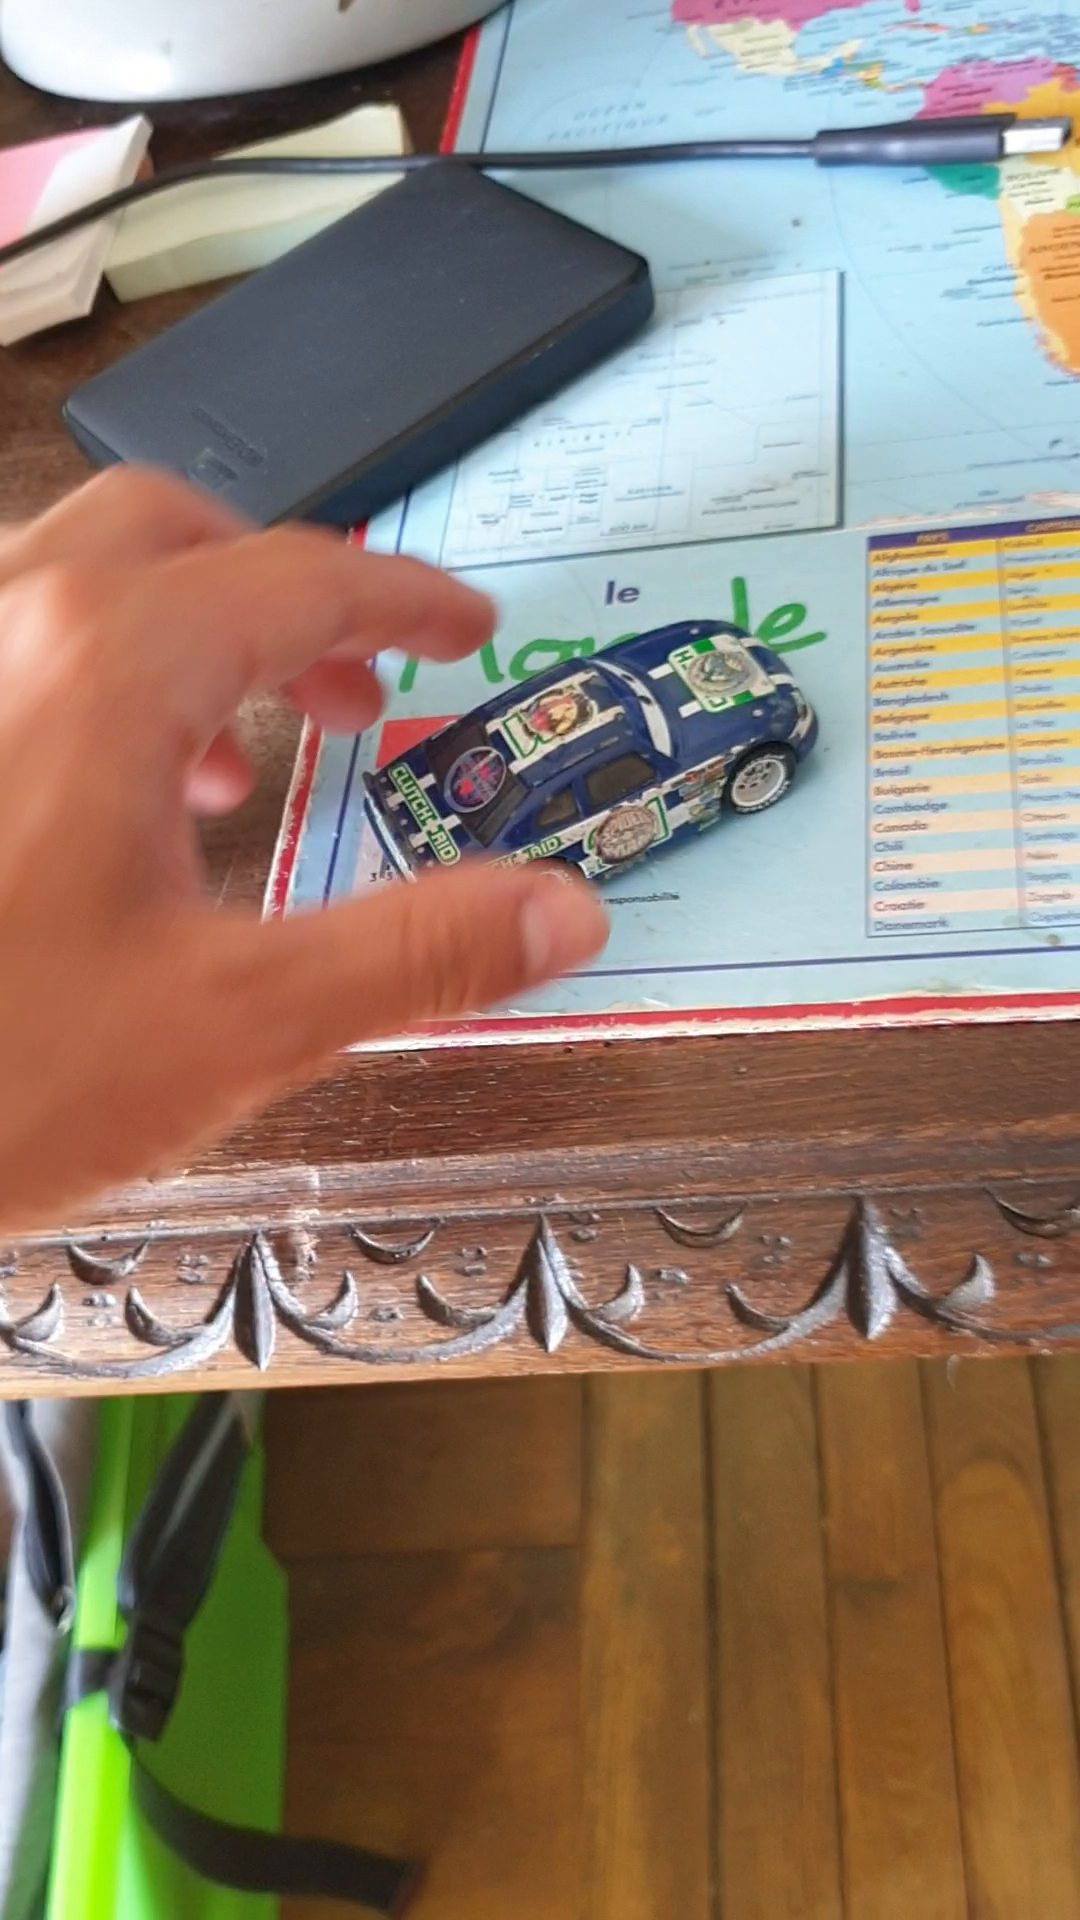cars: (367, 616, 822, 939)
